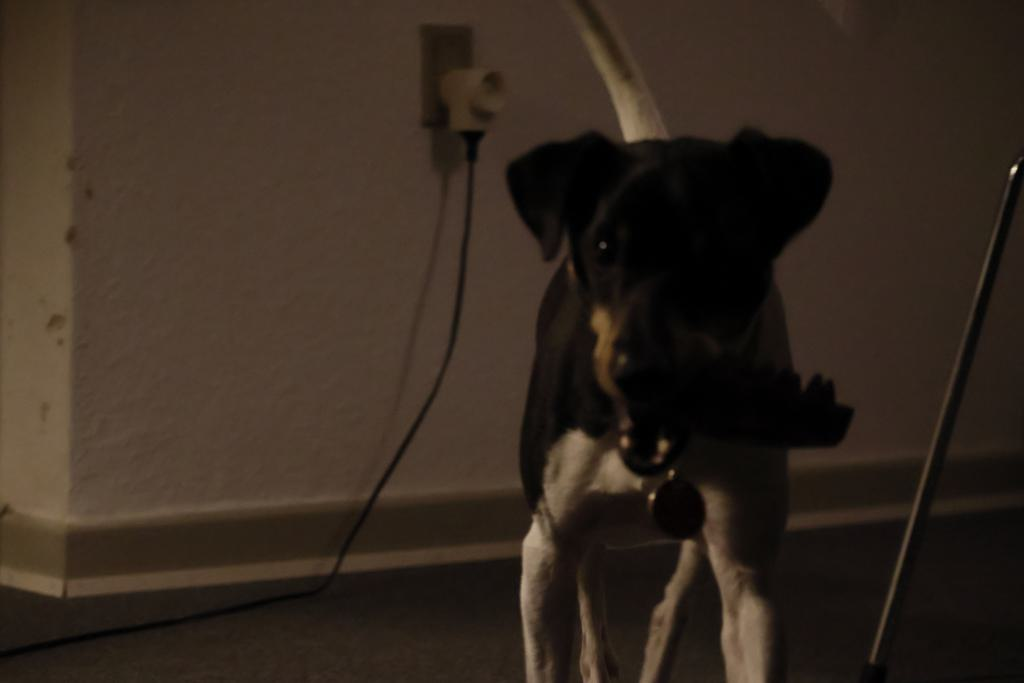Dog: (462, 0, 883, 683)
